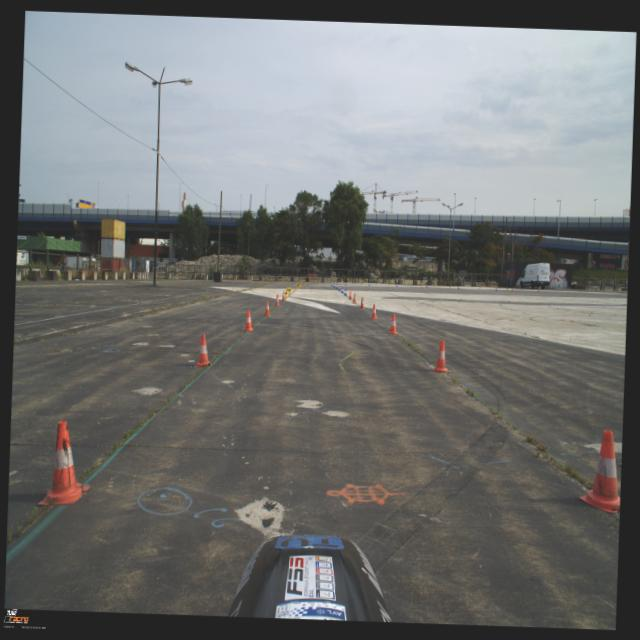blue_cone: (343, 288, 347, 296), (341, 287, 344, 293), (334, 284, 338, 288), (337, 285, 340, 290), (332, 283, 334, 287), (330, 282, 332, 286), (344, 282, 346, 286), (368, 282, 370, 286), (396, 282, 398, 286), (426, 283, 428, 287), (457, 285, 459, 289), (494, 286, 496, 290)
orange_cone: (38, 419, 92, 506), (578, 429, 622, 513), (194, 333, 213, 367), (432, 340, 452, 372), (243, 309, 255, 332), (388, 313, 398, 334), (262, 300, 272, 315), (371, 304, 378, 318), (274, 294, 280, 306), (358, 297, 364, 309), (352, 292, 357, 302), (282, 290, 286, 300), (348, 290, 352, 300), (511, 286, 513, 292), (537, 287, 539, 291)
yellow_cone: (284, 290, 288, 298), (288, 286, 291, 294), (294, 284, 297, 290), (296, 282, 299, 288), (286, 287, 289, 291), (449, 284, 452, 288), (300, 281, 302, 286), (388, 282, 391, 285), (299, 282, 301, 286), (303, 280, 305, 284), (318, 280, 320, 284), (336, 280, 338, 284), (360, 281, 362, 285), (478, 285, 480, 289), (506, 286, 508, 290)
